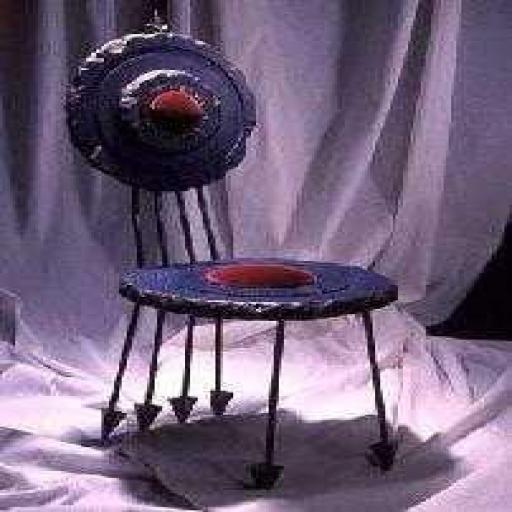chair: (62, 13, 422, 496)
